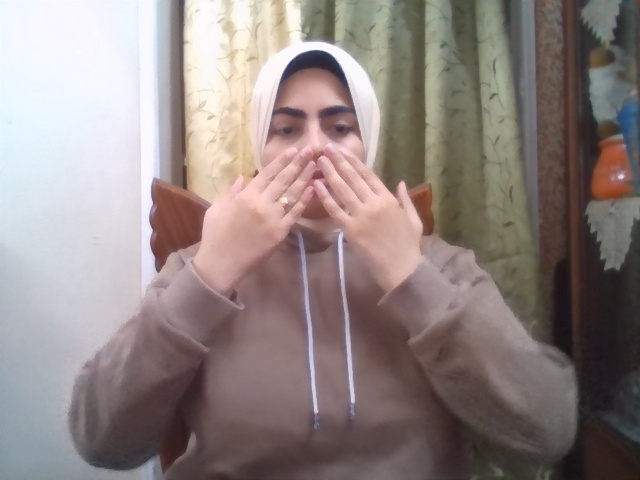thanks: (201, 144, 423, 281)
